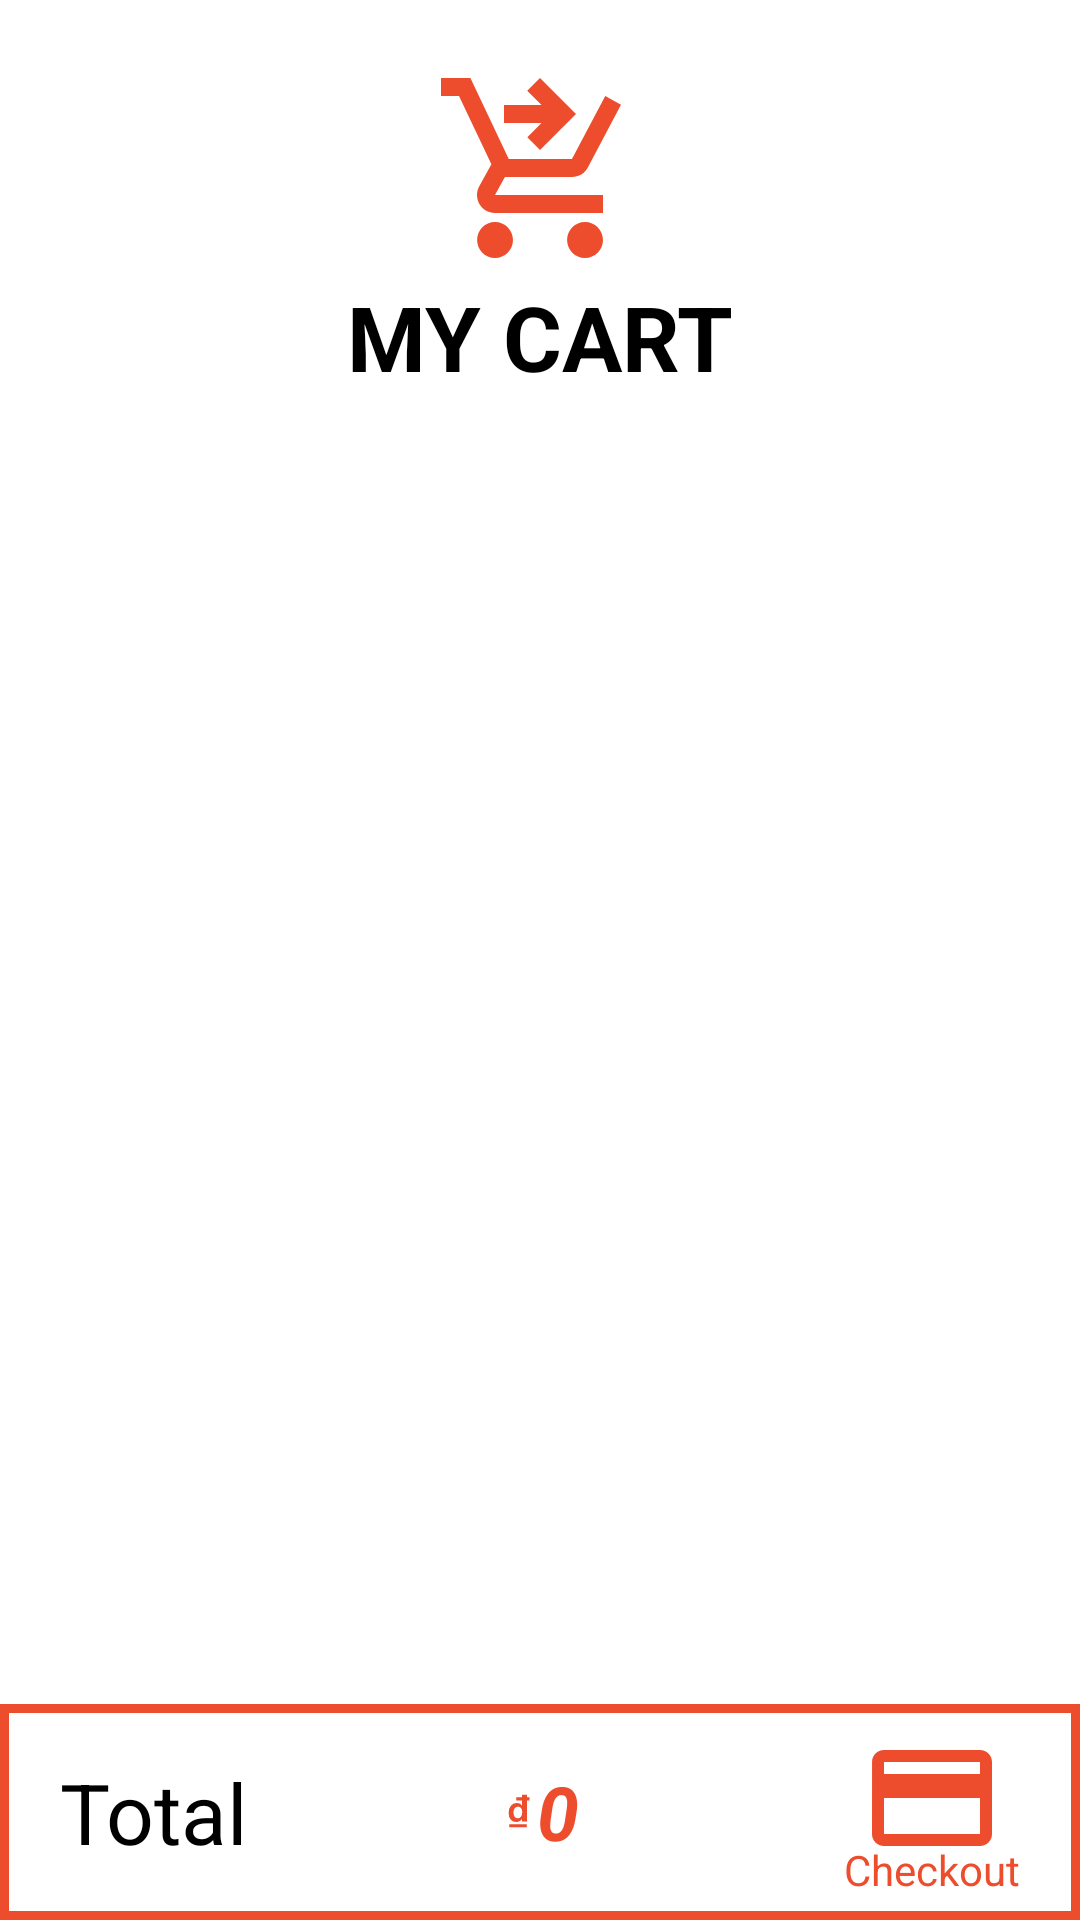

Icons on this 1080×1920 Android screen, each with its box as BBox(x1, y1, x2, y2):
credit card: BBox(872, 1750, 992, 1846)
shopping cart checkout: BBox(441, 78, 621, 258)
